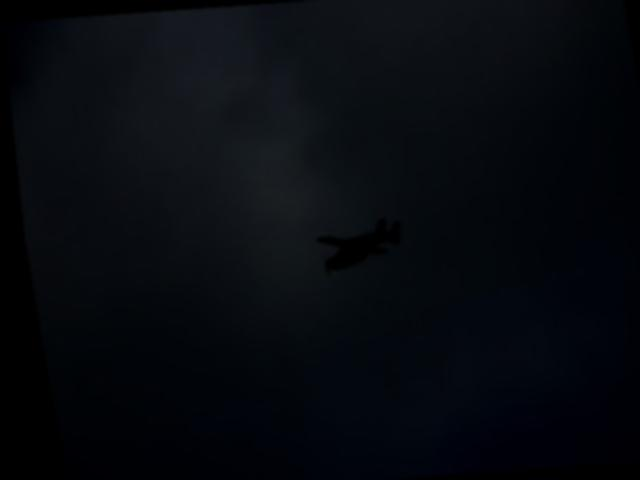uav: (305, 210, 406, 280)
